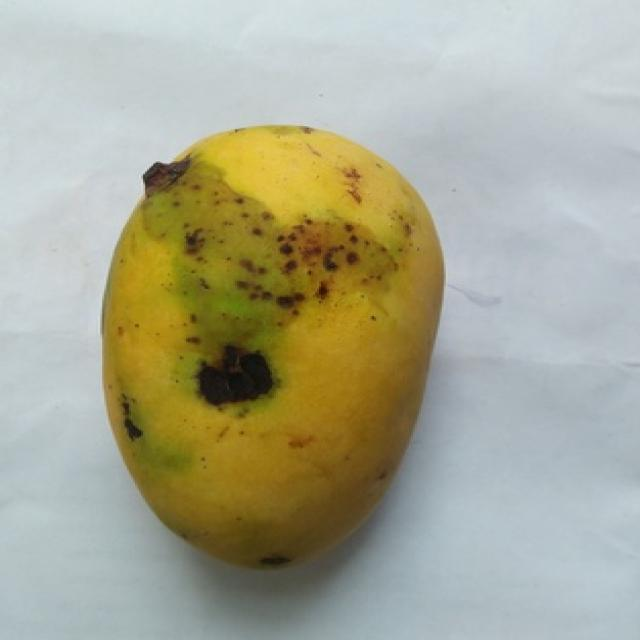Mango: (102, 126, 442, 565)
